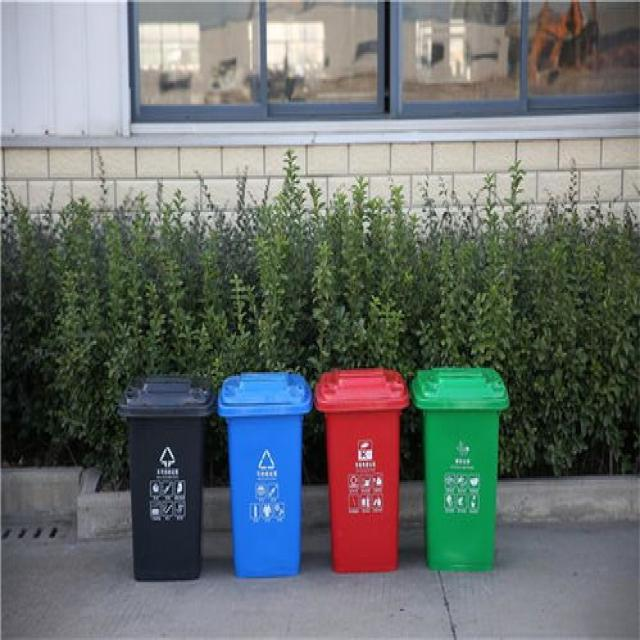garbage_bin: (409, 366, 508, 569), (117, 374, 213, 582), (313, 366, 408, 573), (216, 370, 309, 575)
